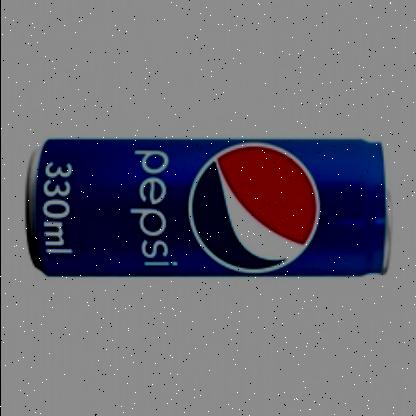Can: (26, 140, 390, 276)
